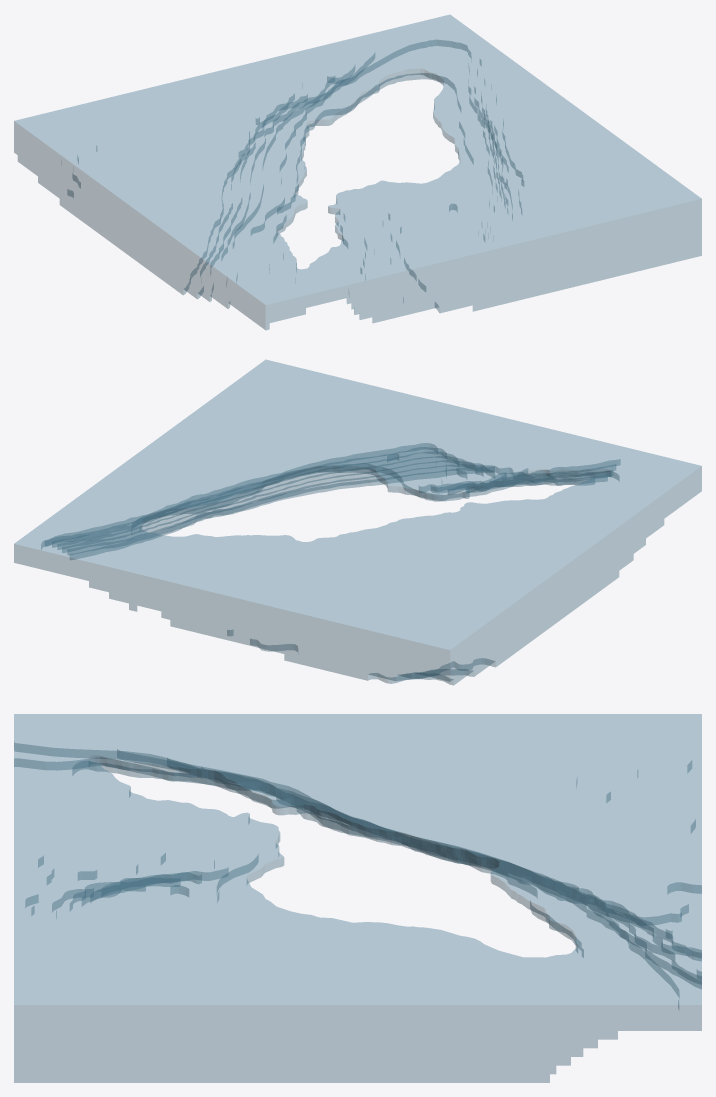
3 views of the same model, one above another, from view 1: azimuth 30°, elevation 25°; view 2: azimuth 150°, elevation 25°; view 3: azimuth 270°, elevation 25° (orthographic). The views are drawn at different scales.
Visible parts, largest first — view 1: water; view 2: water; view 3: water.
Boxes of the visible parts, x1,y1,x2,y2 form: water: [14, 15, 701, 329]; water: [14, 360, 701, 685]; water: [14, 714, 701, 1082].
Bounding box in the file's own units: 102 × 12.7 × 102.
1 material, 1 textured.
